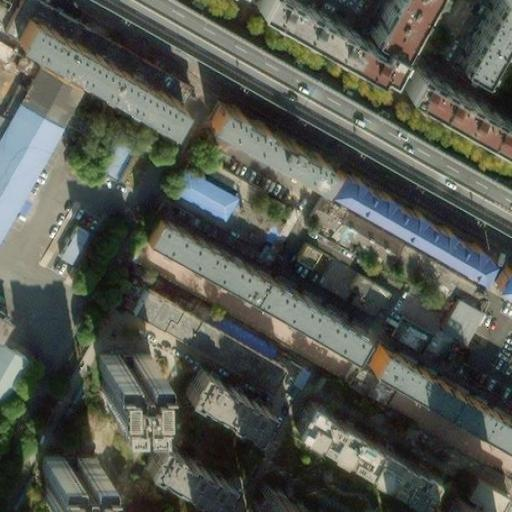building: (140, 215, 364, 352), (322, 163, 490, 271), (0, 0, 186, 93), (13, 11, 176, 113), (116, 289, 274, 393), (365, 344, 512, 447), (288, 394, 433, 493), (207, 100, 335, 187), (407, 65, 512, 146), (286, 237, 386, 306), (297, 204, 391, 269), (140, 440, 224, 504), (184, 368, 265, 428), (184, 302, 267, 359), (455, 0, 512, 73), (164, 160, 230, 214), (39, 450, 95, 511), (101, 350, 152, 409), (216, 200, 277, 243), (363, 0, 422, 43), (432, 291, 475, 336), (56, 221, 95, 268), (244, 482, 302, 512), (458, 473, 500, 512), (100, 139, 135, 182), (384, 314, 421, 348), (491, 259, 512, 290), (440, 497, 476, 512)
